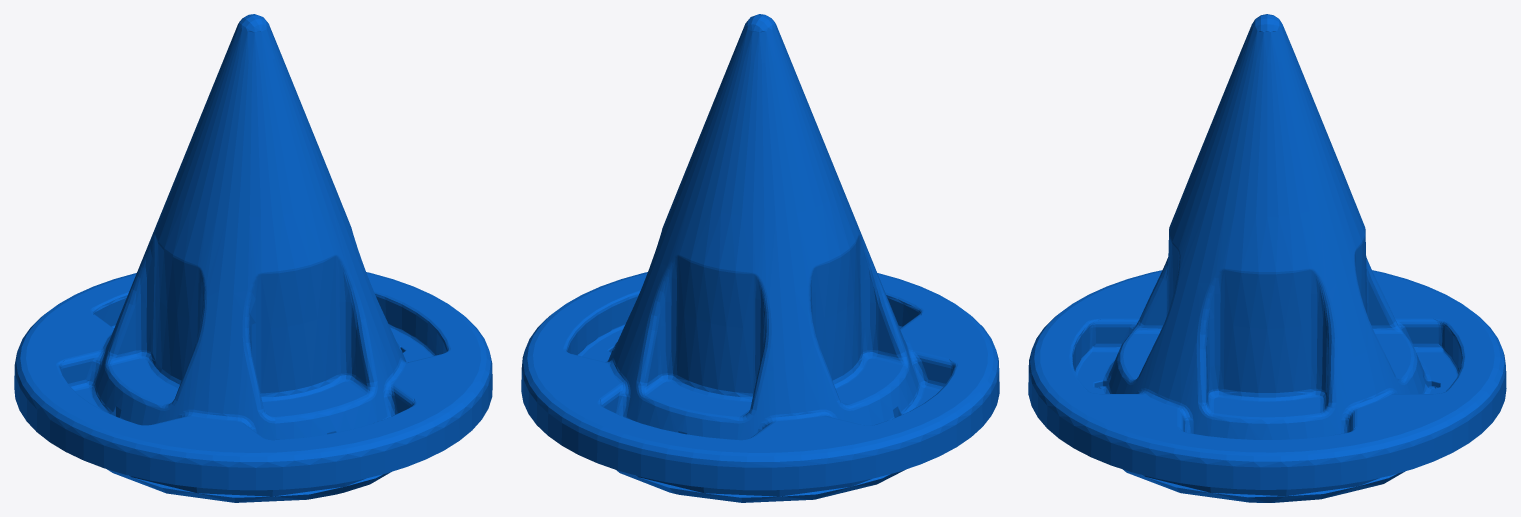
The model's file is BlueMobileGoal.dae.
3 renders of one model, left to right at view 1: azimuth 30°, elevation 25°; view 2: azimuth 150°, elevation 25°; view 3: azimuth 270°, elevation 25°, orthographic.
Parts seen in each view (by area): view 1: mobileGoal; view 2: mobileGoal; view 3: mobileGoal.
Part boxes in pixels (<box>): mobileGoal: <box>14,14,492,502</box>; mobileGoal: <box>521,14,999,502</box>; mobileGoal: <box>1028,14,1506,502</box>.
Bounding box in the file's own units: 0.254 × 0.254 × 0.2438.
